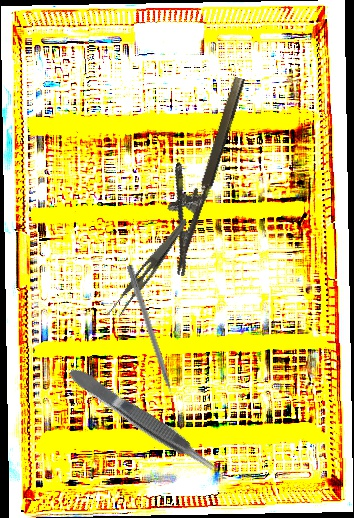Dressing Forceps: (104, 210, 189, 326)
Needle Holder: (144, 67, 248, 277)
Pusher: (124, 264, 180, 412)
Tissue Forceps: (65, 361, 224, 480)
